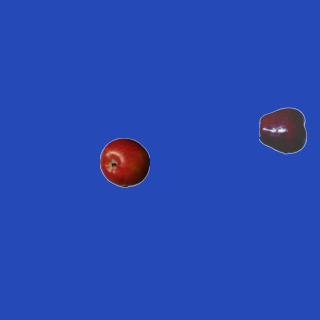Apple Braeburn: (99, 137, 149, 187)
Apple Red Delicious: (258, 105, 308, 155)
